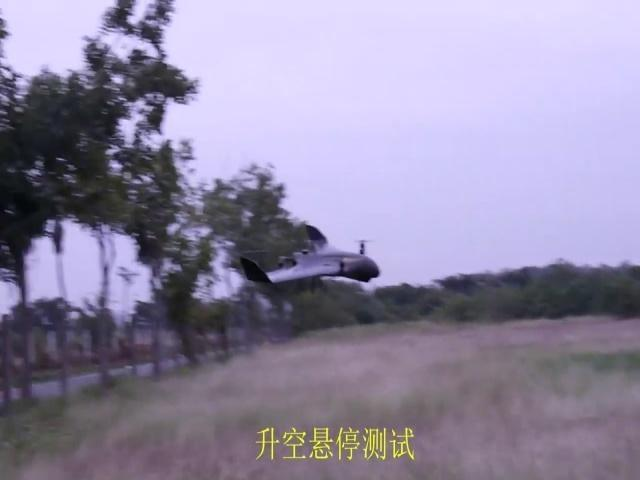Airplane: (240, 225, 381, 286)
